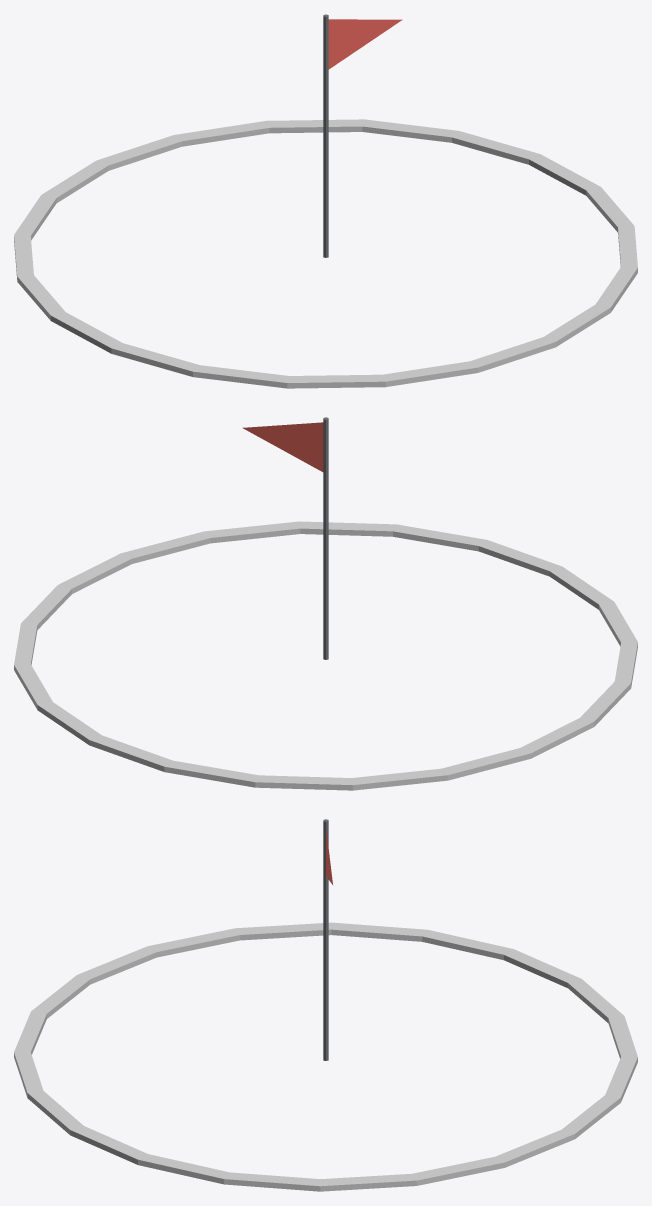
The model's file is range_target_01.glb.
3 views of the same model, one above another, from view 1: azimuth 30°, elevation 25°; view 2: azimuth 150°, elevation 25°; view 3: azimuth 270°, elevation 25° (orthographic).
Parts seen in each view (by area): view 1: Range_target_01; view 2: Range_target_01; view 3: Range_target_01.
Part boxes in pixels (<box>): Range_target_01: <box>14,14,637,388</box>; Range_target_01: <box>14,417,637,790</box>; Range_target_01: <box>14,819,637,1191</box>.
Bounding box in the file's own units: 5.2 × 2.2 × 5.2.
